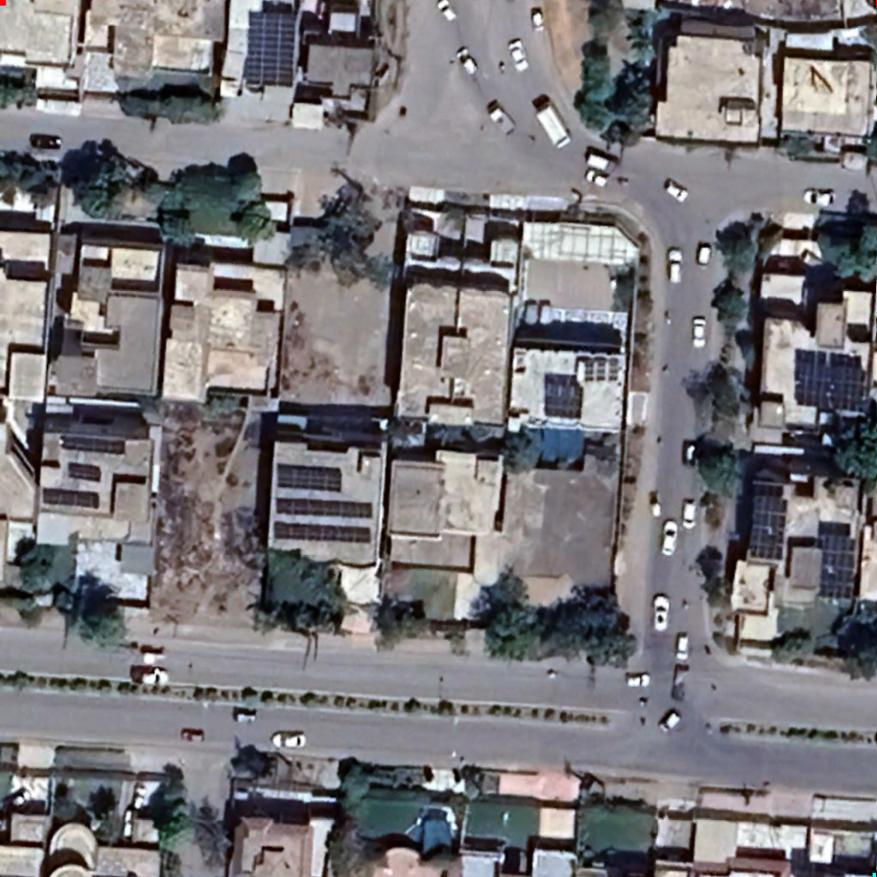Solarpanel: (243, 9, 297, 89), (794, 358, 867, 412), (749, 491, 789, 561), (818, 532, 857, 599), (273, 520, 372, 543), (275, 461, 343, 494), (274, 496, 373, 518), (545, 380, 585, 421), (56, 435, 129, 457), (41, 487, 103, 511), (65, 462, 104, 484)
